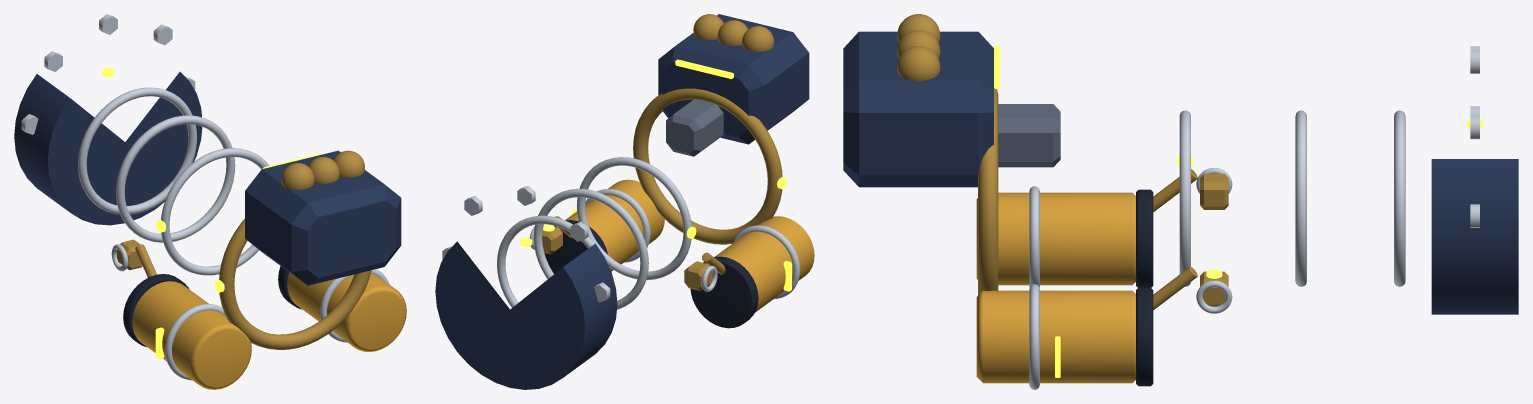
The model's file is tower_nova_damage_s7.glb.
3 renders of one model, left to right at view 1: azimuth 30°, elevation 25°; view 2: azimuth 150°, elevation 25°; view 3: azimuth 270°, elevation 25°, orthographic. The views are drawn at different scales.
Parts seen in each view (by area): view 1: nova_brake_shroud, nova_cluster_hopper, nova_napalm_can_r, nova_napalm_can_l, nova_pressure_ring, nova_tube_band1.02, nova_tube_band1.36, nova_tube_band0.62, nova_brake_shroud_bolts, nova_napalm_cap_r, nova_napalm_strap_r, nova_bomblet2 (+5 smaller); view 2: nova_brake_shroud, nova_cluster_hopper, nova_pressure_ring, nova_napalm_can_r, nova_napalm_can_l, nova_napalm_cap_r, nova_tube_band0.62, nova_cluster_feed, nova_tube_band1.02, nova_tube_band1.36, nova_brake_shroud_bolts, nova_napalm_cap_l (+8 smaller); view 3: nova_cluster_hopper, nova_napalm_can_l, nova_brake_shroud, nova_napalm_can_r, nova_cluster_feed, nova_pressure_ring, nova_tube_band1.02, nova_tube_band1.36, nova_tube_band0.62, nova_napalm_cap_l, nova_napalm_cap_r, nova_bomblet0 (+9 smaller).
Boxes of the visible parts, bbox=[...] form: nova_brake_shroud: bbox=[14, 72, 202, 225]; nova_cluster_hopper: bbox=[245, 150, 401, 285]; nova_napalm_can_r: bbox=[132, 281, 251, 389]; nova_napalm_can_l: bbox=[287, 272, 406, 352]; nova_pressure_ring: bbox=[219, 219, 371, 349]; nova_tube_band1.02: bbox=[116, 115, 235, 242]; nova_tube_band1.36: bbox=[78, 87, 197, 214]; nova_tube_band0.62: bbox=[161, 148, 269, 275]; nova_brake_shroud_bolts: bbox=[21, 14, 195, 134]; nova_napalm_cap_r: bbox=[123, 274, 189, 347]; nova_napalm_strap_r: bbox=[165, 304, 225, 380]; nova_bomblet2: bbox=[281, 163, 314, 189]; nova_brake_shroud: bbox=[435, 241, 617, 389]; nova_cluster_hopper: bbox=[658, 14, 809, 144]; nova_pressure_ring: bbox=[633, 88, 782, 244]; nova_napalm_can_r: bbox=[715, 216, 814, 312]; nova_napalm_can_l: bbox=[565, 179, 664, 271]; nova_napalm_cap_r: bbox=[690, 256, 758, 328]; nova_tube_band0.62: bbox=[576, 157, 691, 280]; nova_cluster_feed: bbox=[666, 99, 723, 156]; nova_tube_band1.02: bbox=[533, 188, 648, 309]; nova_tube_band1.36: bbox=[497, 215, 594, 307]; nova_brake_shroud_bolts: bbox=[442, 186, 610, 302]; nova_napalm_cap_l: bbox=[544, 220, 607, 273]; nova_cluster_hopper: bbox=[843, 31, 993, 187]; nova_napalm_can_l: bbox=[976, 290, 1135, 383]; nova_brake_shroud: bbox=[1431, 159, 1518, 314]; nova_napalm_can_r: bbox=[976, 192, 1135, 285]; nova_cluster_feed: bbox=[998, 104, 1060, 167]; nova_pressure_ring: bbox=[978, 88, 998, 295]; nova_tube_band1.02: bbox=[1295, 110, 1306, 286]; nova_tube_band1.36: bbox=[1394, 110, 1405, 286]; nova_tube_band0.62: bbox=[1179, 110, 1190, 286]; nova_napalm_cap_l: bbox=[1136, 287, 1153, 386]; nova_napalm_cap_r: bbox=[1136, 189, 1153, 287]; nova_bomblet0: bbox=[897, 46, 940, 81].
Bounding box in the file's own units: 1.17 × 1.16 × 2.33.
